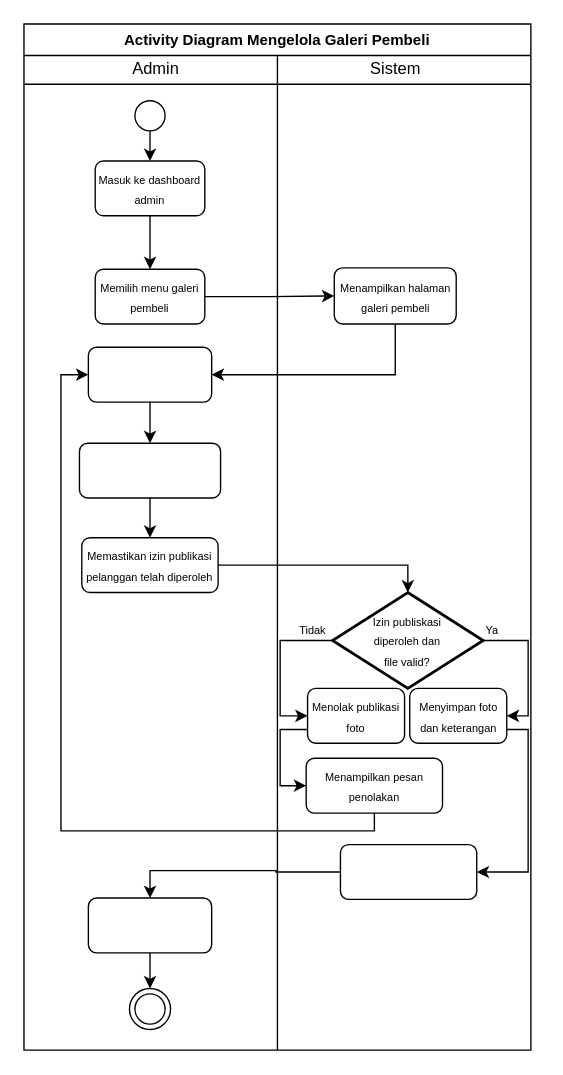
The diagram is 563 pixels wide and 1075 high, and some of its shapes have lost their labels. Here are the shapes that lost their labels. From the top down, the box of each, then its label:
(87, 346, 212, 402): Memilih foto yang akan diunggah
(78, 442, 221, 498): Menambahkan keterangan jika diperlukan
(339, 843, 477, 899): Menampilkan foto pada galeri pembeli
(87, 897, 212, 953): Selesai mengelola galeri pembeli
